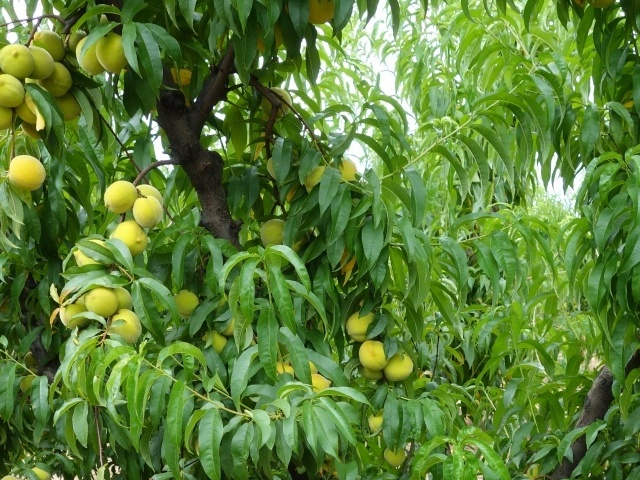peach: (4, 153, 50, 193), (93, 32, 129, 76), (108, 307, 147, 346), (258, 81, 296, 121), (82, 284, 121, 321), (344, 305, 383, 342), (356, 335, 393, 374), (100, 179, 140, 215), (110, 219, 151, 254), (74, 34, 105, 79), (1, 41, 34, 81), (70, 237, 114, 266), (131, 195, 166, 231), (51, 89, 85, 126), (382, 348, 416, 384), (256, 216, 293, 249), (300, 1, 339, 31), (170, 288, 204, 321), (32, 26, 67, 58), (23, 44, 56, 77), (1, 70, 29, 108), (58, 298, 90, 331), (5, 100, 41, 129), (46, 61, 76, 95), (111, 282, 143, 312), (335, 155, 365, 187), (132, 177, 166, 205), (303, 369, 336, 397), (55, 25, 86, 53), (382, 440, 410, 468), (206, 327, 231, 357), (366, 409, 389, 440)
